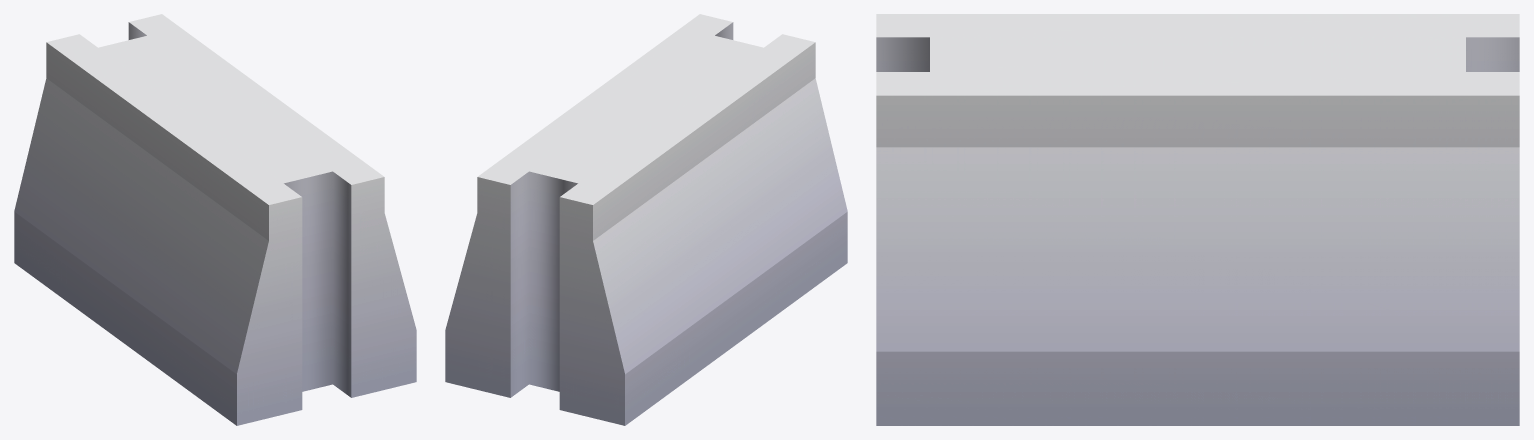
Rendered from construction-barrier.glb.
3 renders of one model, left to right at view 1: azimuth 30°, elevation 25°; view 2: azimuth 150°, elevation 25°; view 3: azimuth 270°, elevation 25°, orthographic. The views are drawn at different scales.
Parts seen in each view (by area): view 1: construction-barrier; view 2: construction-barrier; view 3: construction-barrier.
Part boxes in pixels (x1,y1,x2,y2): construction-barrier: (14,14,416,425); construction-barrier: (445,14,847,425); construction-barrier: (876,14,1519,425).
Size of the model in its own units: 0.105 by 0.1188 by 0.225.
1 material, 1 textured.
